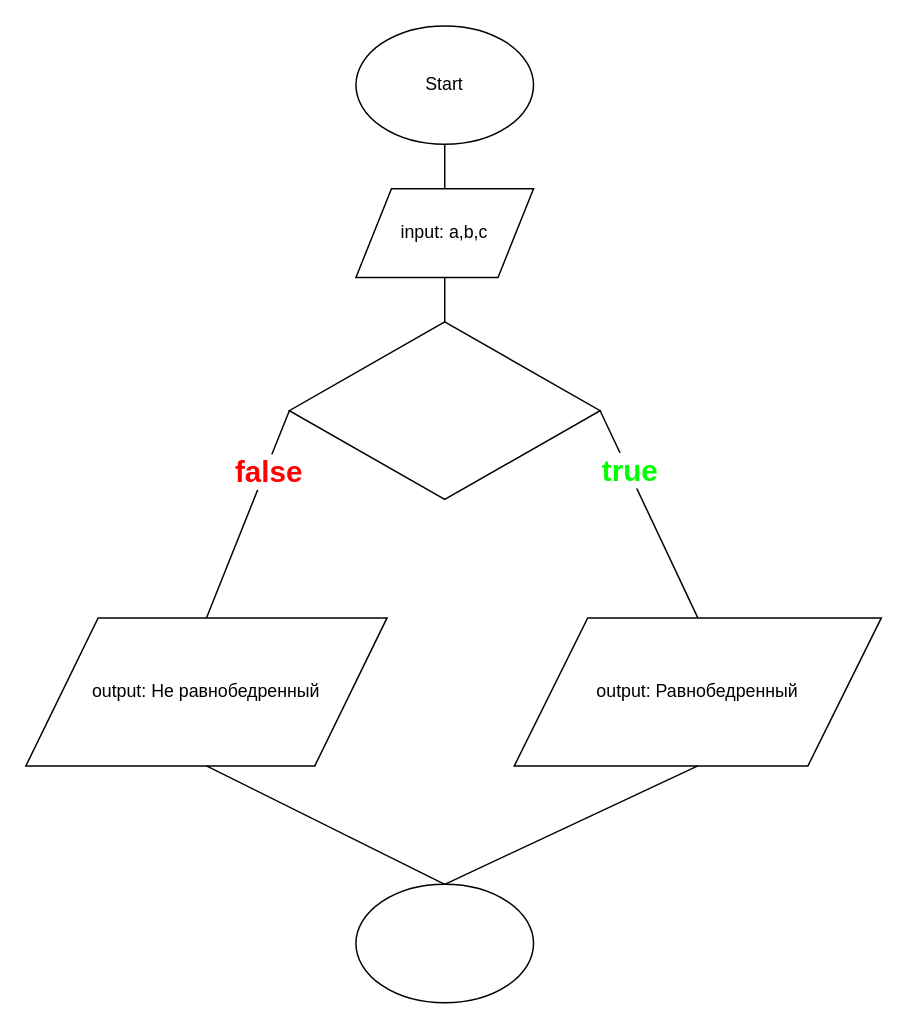
Some shapes in this 907 by 1029 pixel diagram are drawn without their labels. The centre of each missing label's shape, as x and y in pixels:
(a==b) or (a==c) or (b==c): (x=444, y=410)
end: (x=444, y=943)
